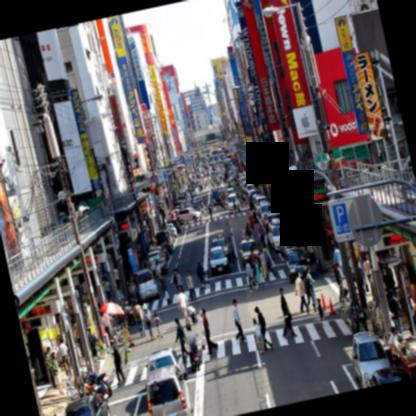handbag: (176, 272, 182, 282)
suitcase: (187, 306, 198, 325)
